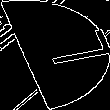L_W: (11, 33, 99, 77)
